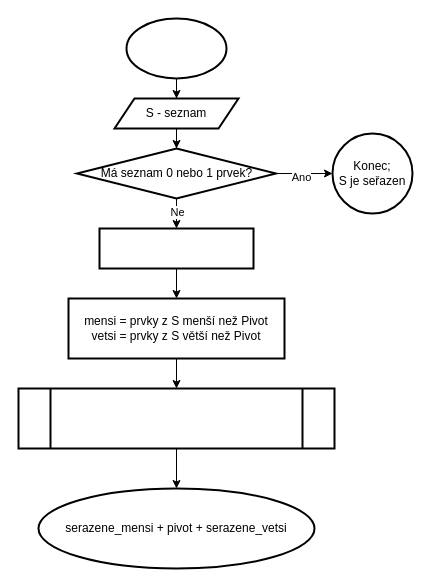
This 430x586 diagram has some shape labels left out. The box of each missing label's shape, as (x1, y1, x2, y2) in pixels:
Pivot = libovolný prvek z S: (98, 227, 254, 269)
QuickSort: (125, 17, 227, 79)
serazene_mensi = QuickSort ( mensi ) serazene_vetsi = QuickSort ( vetsi): (17, 387, 335, 449)
